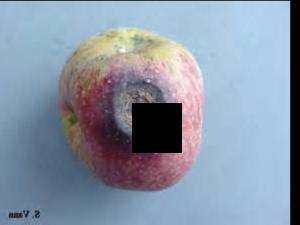rotten apple: (55, 24, 212, 192)
